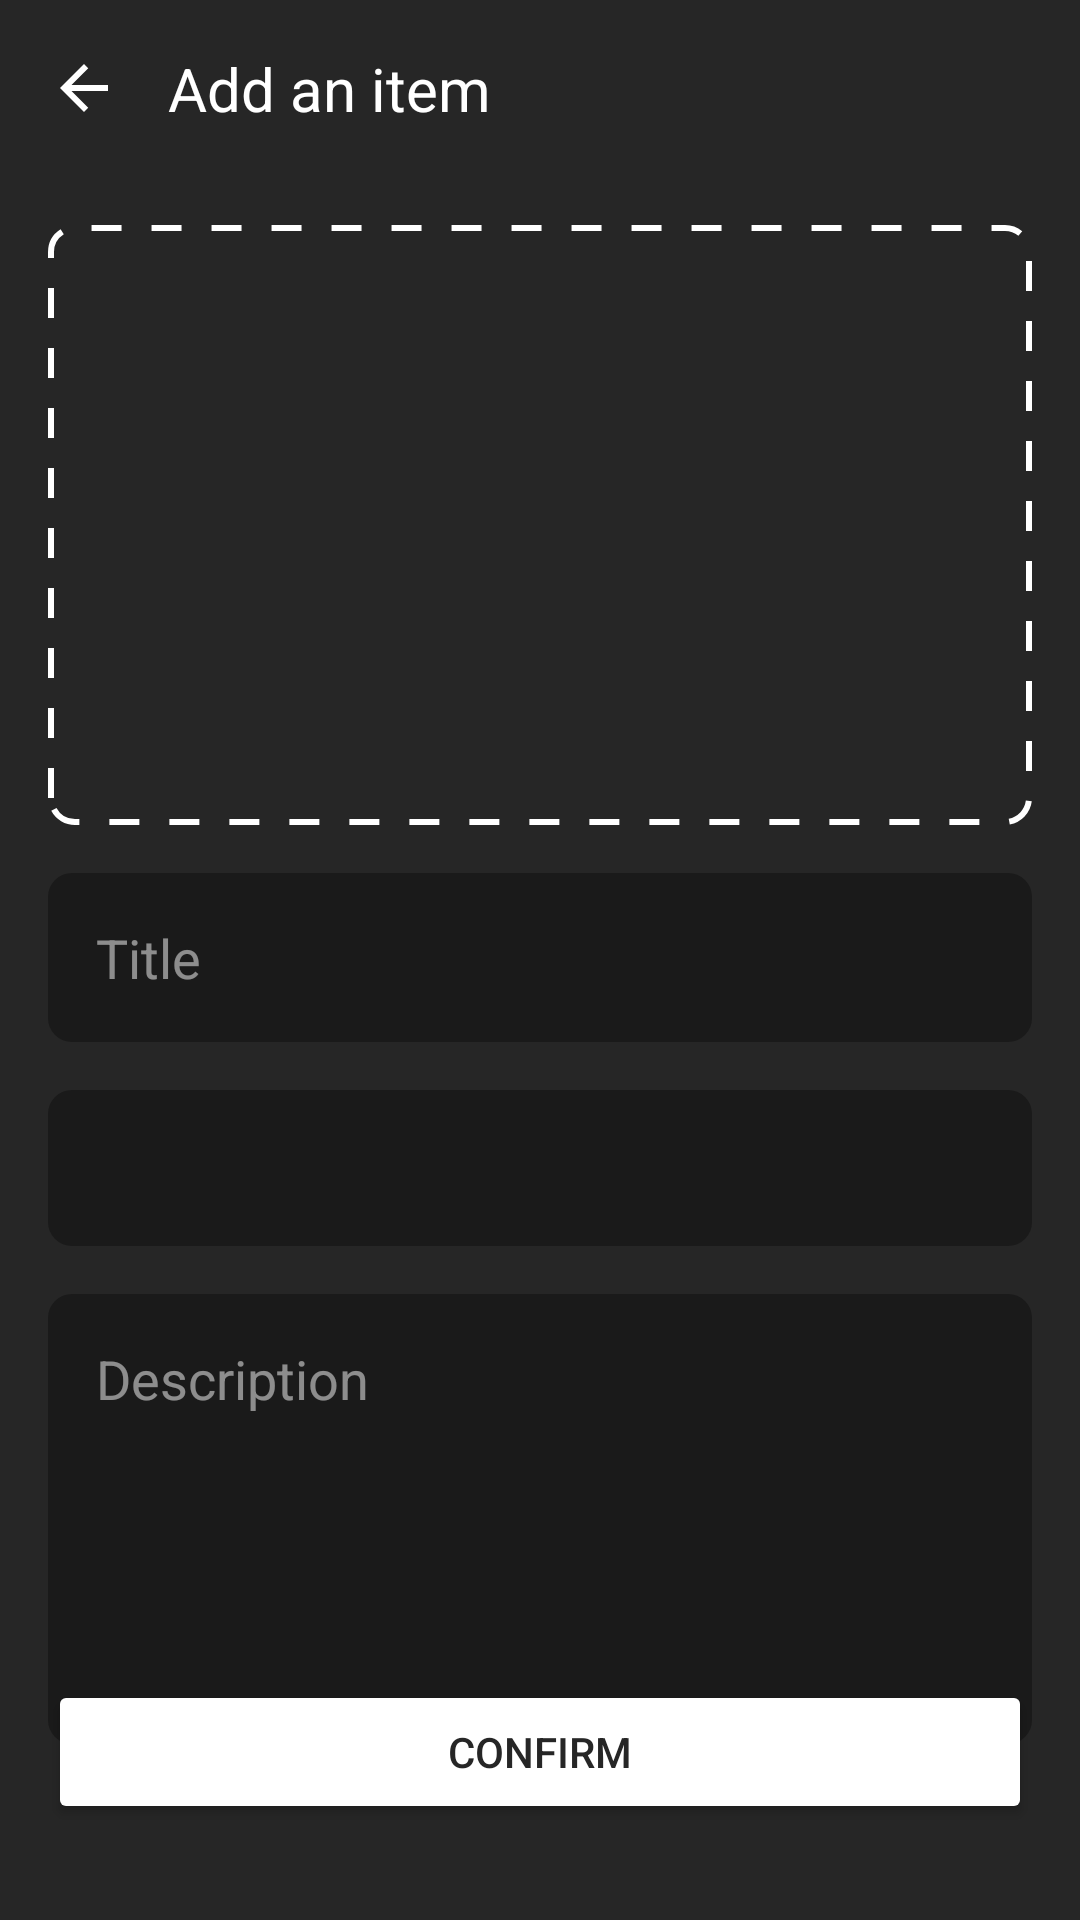

Icon click points for this 1080 x 1920 phone screenshot, format (x=x, y=y):
back: (x=84, y=88)
